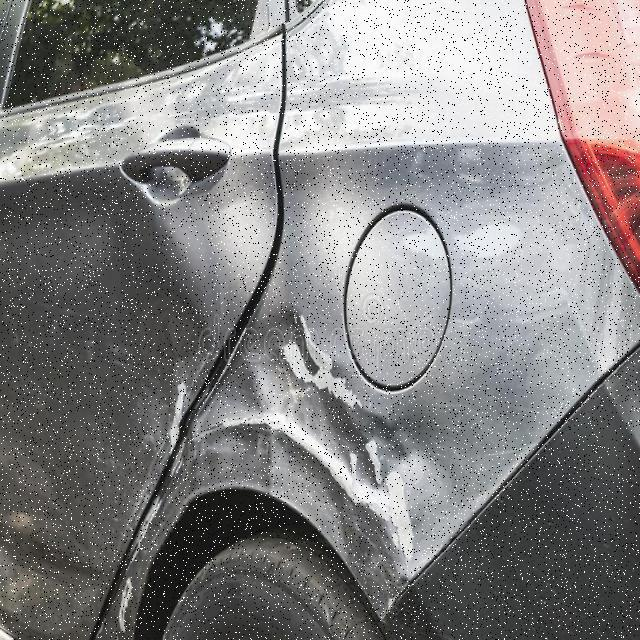doorouter-dent: (0, 38, 209, 459)
quaterpanel-dent: (272, 9, 551, 636)
